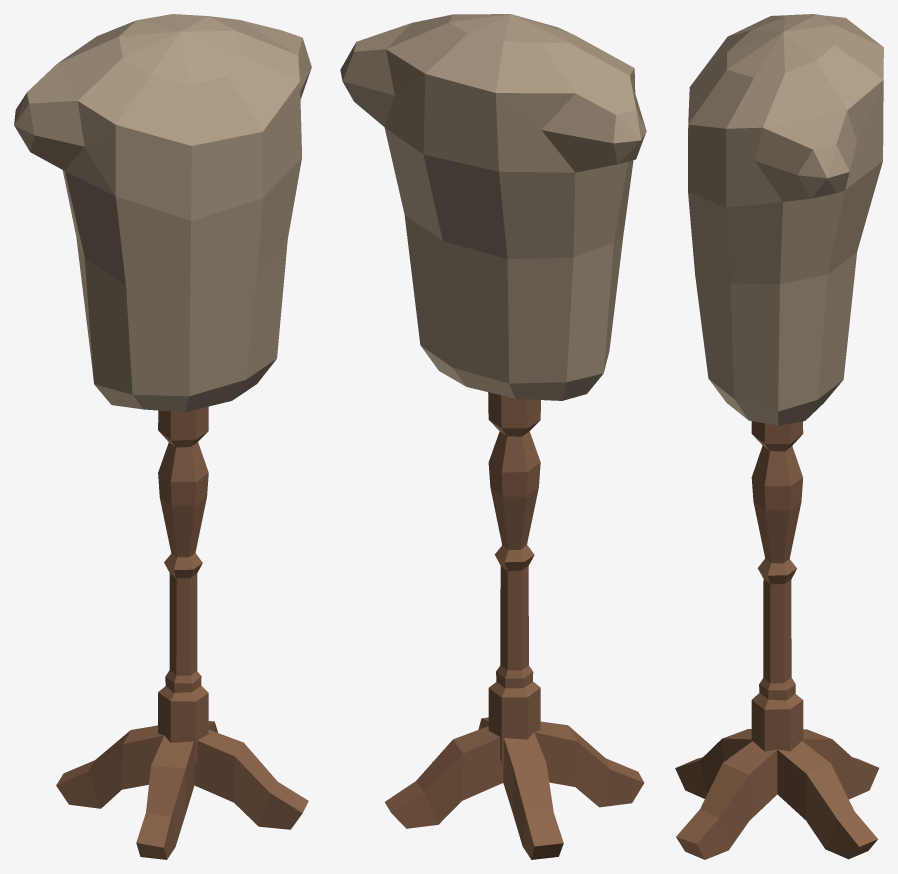
File: SM_Prop_Mannequin_01.fbx
3 views of the same model, side by side, from view 1: azimuth 30°, elevation 25°; view 2: azimuth 150°, elevation 25°; view 3: azimuth 270°, elevation 25° (orthographic). The views are drawn at different scales.
Parts seen in each view (by area): view 1: SM_Prop_Mannequin_01; view 2: SM_Prop_Mannequin_01; view 3: SM_Prop_Mannequin_01.
Boxes of the visible parts, box(x1,y1,x2,y2) form: SM_Prop_Mannequin_01: box(14, 14, 311, 859); SM_Prop_Mannequin_01: box(340, 14, 646, 859); SM_Prop_Mannequin_01: box(675, 14, 883, 859).
Bounding box in the file's own units: 40.9 × 104 × 24.99.
